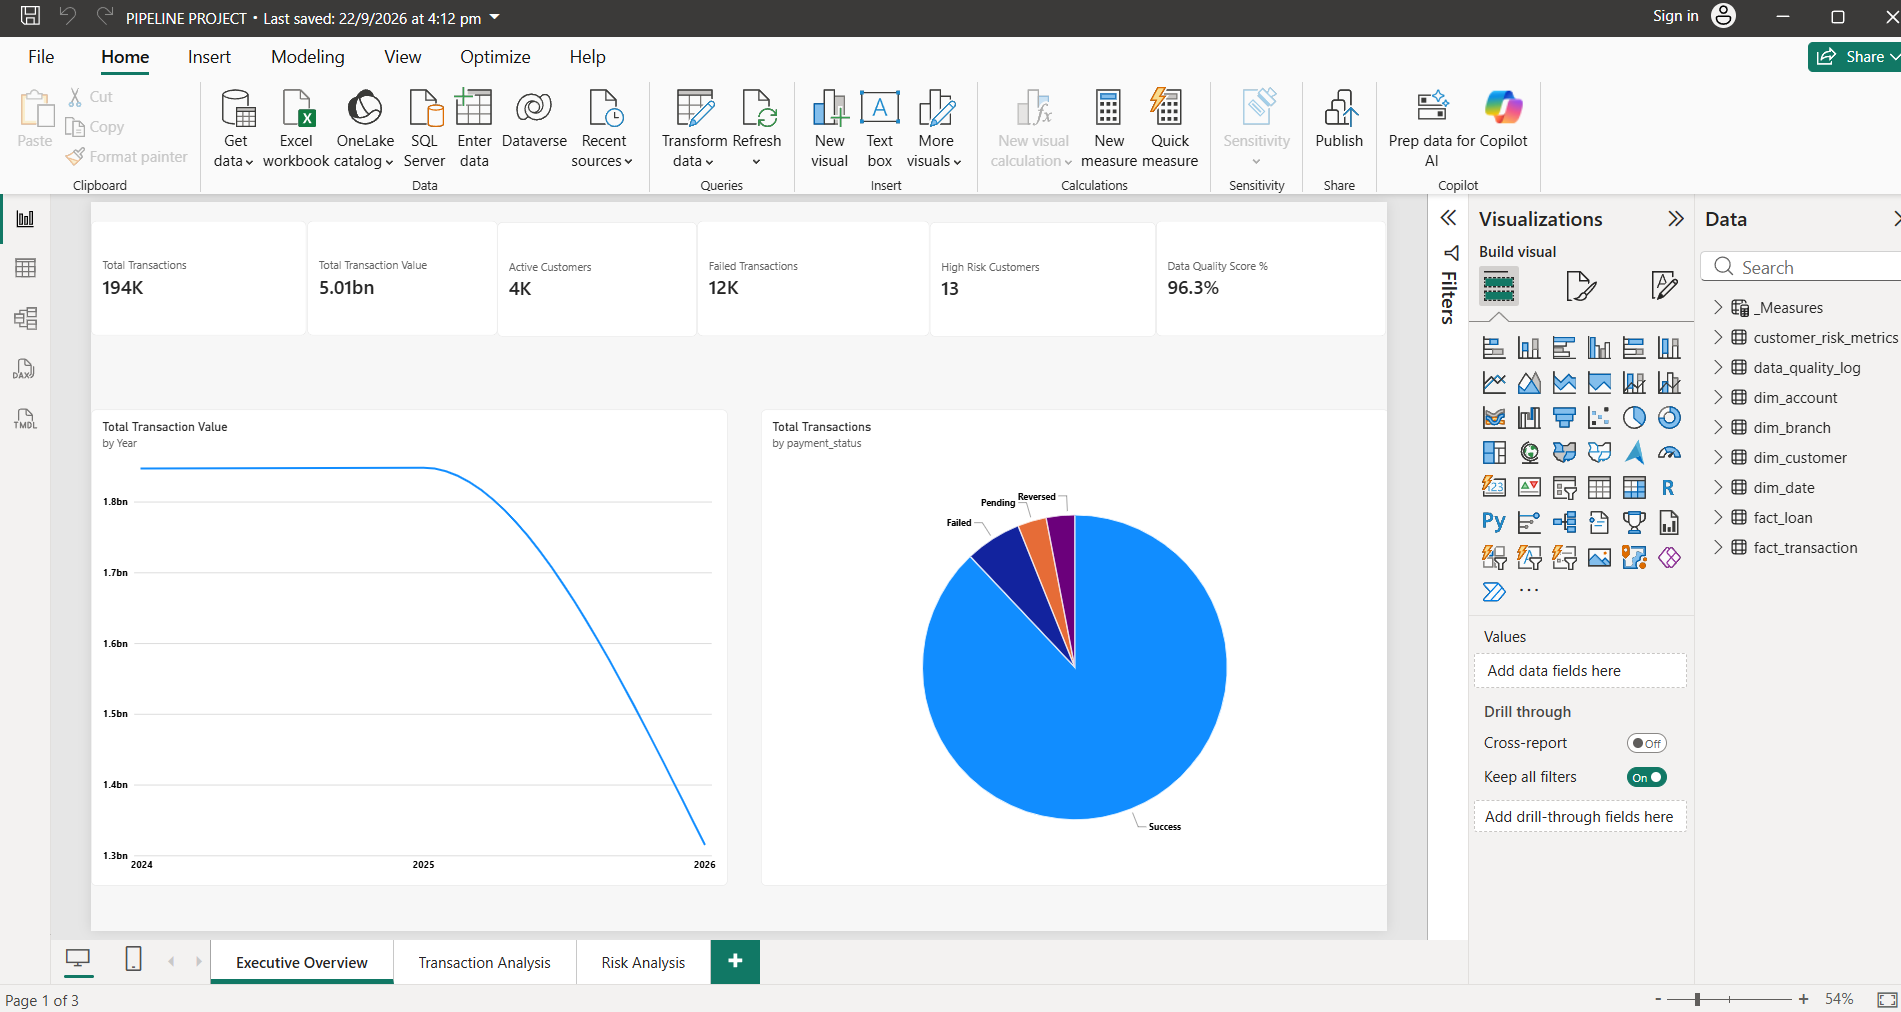

What the dashboard file says about the page in this screenshot:
{"tool":"powerbi","page":{"name":"Executive Overview","canvas":[1920,1080],"ordinal":0},"visuals":[{"type":"cardVisual","fields":{"Data":["_Measures.Total Transactions"]},"box":[0,27.5,319.6,170.6],"z":0},{"type":"cardVisual","fields":{"Data":["_Measures.Total Transaction Value"]},"box":[319.6,27.5,282.4,170.6],"z":1000},{"type":"cardVisual","fields":{"Data":["_Measures.Active Customers"]},"box":[602,29.4,296.1,170.6],"z":2000},{"type":"cardVisual","fields":{"Data":["_Measures.Failed Transactions"]},"box":[898.6,27,344.6,171.6],"z":3000},{"type":"cardVisual","fields":{"Data":["_Measures.High Risk Customers"]},"box":[1243.2,29.7,335.3,170.6],"z":4000},{"type":"cardVisual","fields":{"Data":["_Measures.Data Quality Score %"]},"box":[1578.4,27,341.9,171.6],"z":5000},{"type":"lineChart","fields":{"Category":["dim_date.year_month.Variation.Date Hierarchy.Year","dim_date.year_month.Variation.Date Hierarchy.Quarter","dim_date.year_month.Variation.Date Hierarchy.Month","dim_date.year_month.Variation.Date Hierarchy.Day"],"Y":["_Measures.Total Transaction Value"]},"box":[0,307.8,943.1,705.9],"z":6000},{"type":"pieChart","fields":{"Category":["fact_transaction.payment_status"],"Y":["_Measures.Total Transactions"]},"box":[991.7,307.6,930.2,705.8],"z":7000}]}

Visuals, with their boxes on the page's 1920x1080 design canvas (x1, y1, x2, y2). These are canvas units, not pixel positions in the 1901x1012 screenshot, which may show the page scaled, cropped or inside an application window:
cardVisual - _Measures.Total Transactions: bbox=(0, 28, 320, 198)
cardVisual - _Measures.Total Transaction Value: bbox=(320, 28, 602, 198)
cardVisual - _Measures.Active Customers: bbox=(602, 29, 898, 200)
cardVisual - _Measures.Failed Transactions: bbox=(899, 27, 1243, 199)
cardVisual - _Measures.High Risk Customers: bbox=(1243, 30, 1578, 200)
cardVisual - _Measures.Data Quality Score %: bbox=(1578, 27, 1920, 199)
lineChart - dim_date.year_month.Variation.Date Hierarchy.Year x dim_date.year_month.Variation.Date Hierarchy.Quarter: bbox=(0, 308, 943, 1014)
pieChart - fact_transaction.payment_status x _Measures.Total Transactions: bbox=(992, 308, 1922, 1013)
